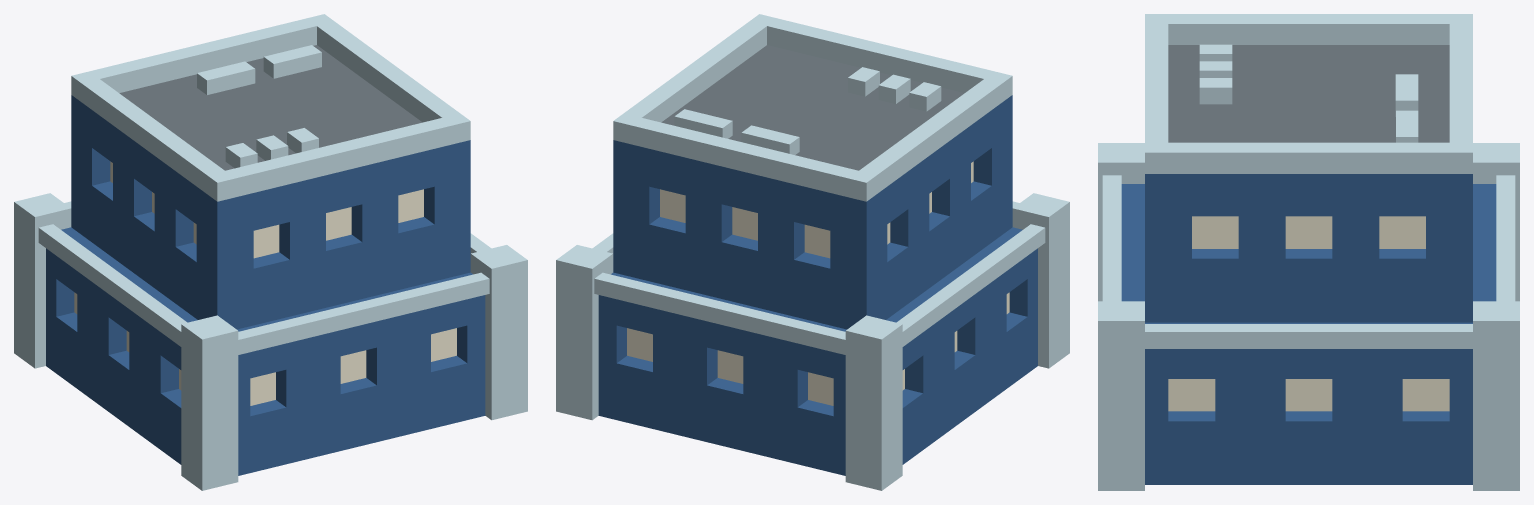
Rendered from Building_6_Extra (Blue).obj.
3 renders of one model, left to right at view 1: azimuth 30°, elevation 25°; view 2: azimuth 150°, elevation 25°; view 3: azimuth 270°, elevation 25°, orthographic. The views are drawn at different scales.
Parts seen in each view (by area): view 1: Building_6_Extra_(Blue); view 2: Building_6_Extra_(Blue); view 3: Building_6_Extra_(Blue).
Boxes of the visible parts, x1,y1,x2,y2 form: Building_6_Extra_(Blue): [14, 14, 527, 490]; Building_6_Extra_(Blue): [556, 14, 1069, 490]; Building_6_Extra_(Blue): [1098, 14, 1519, 490].
Size of the model in its own units: 1.8 by 1.5 by 1.8.
